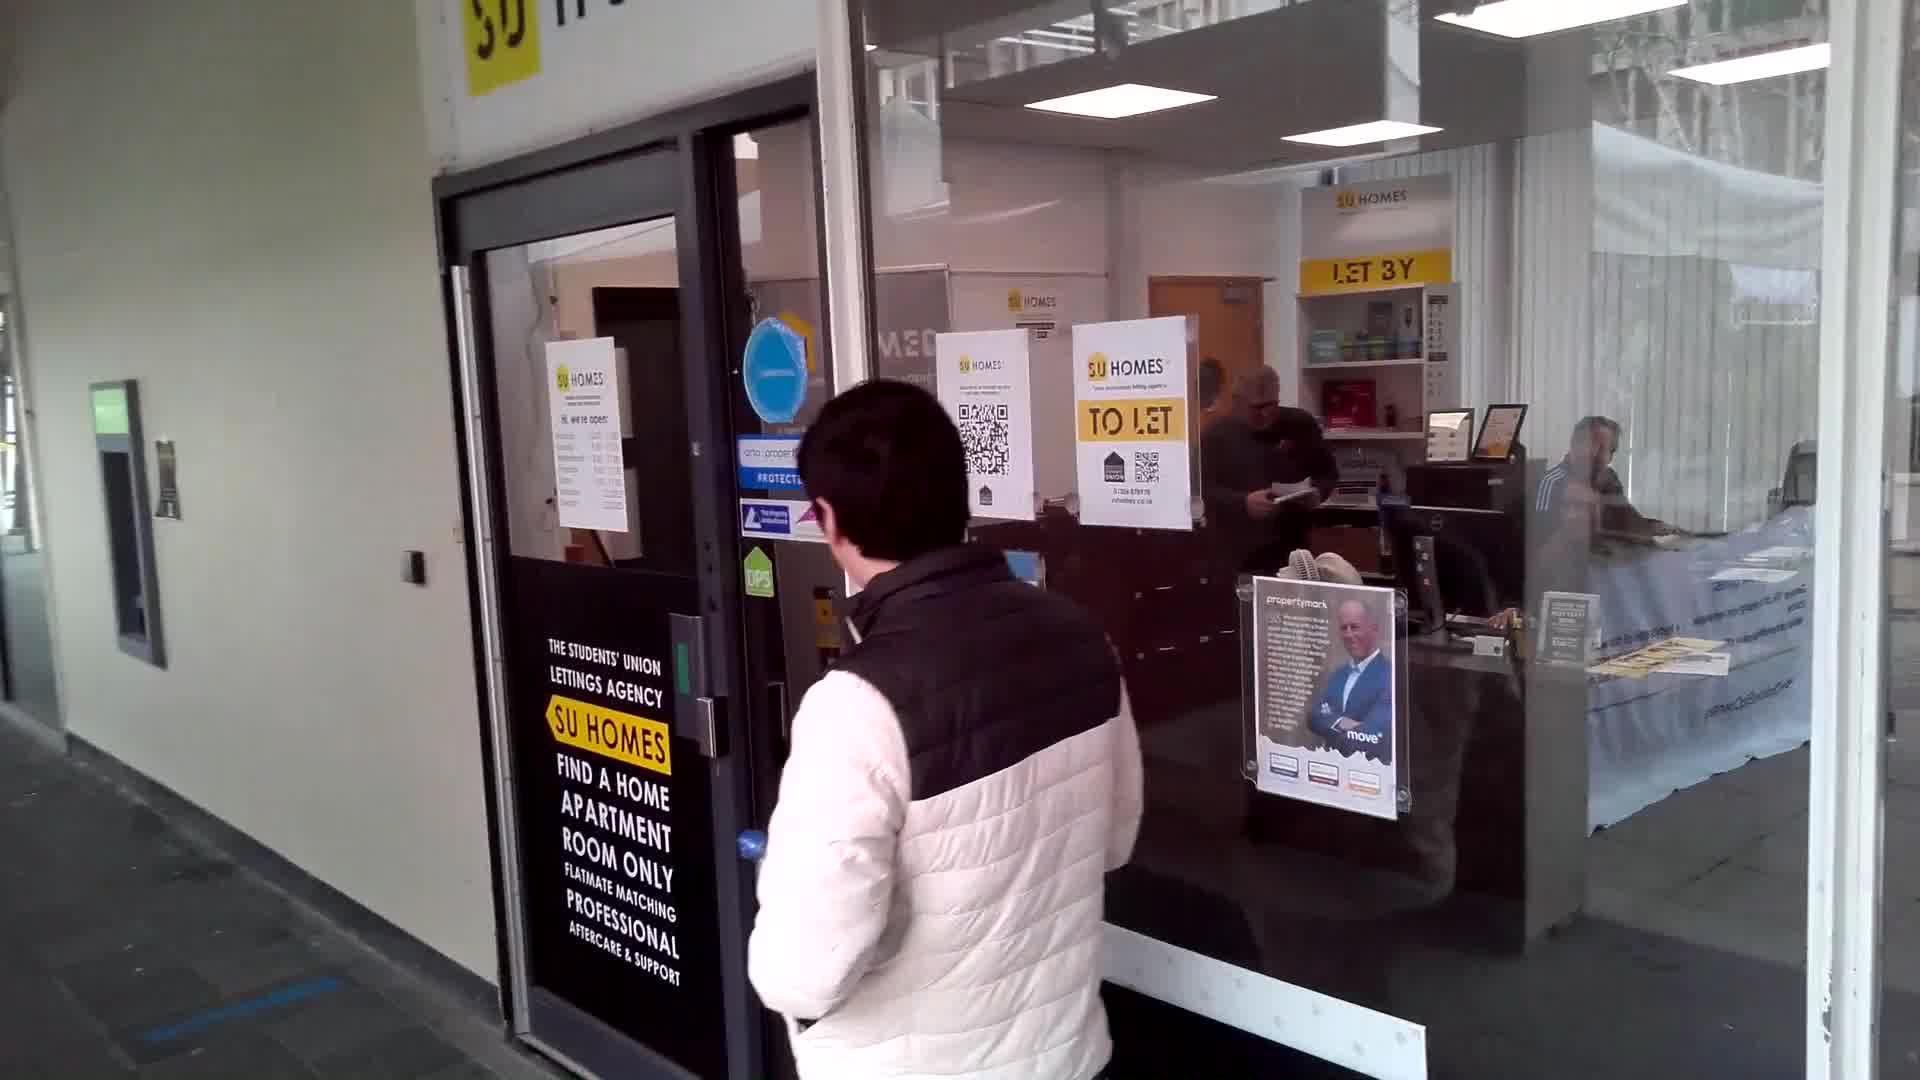Person: (780, 393, 1117, 1080), (1205, 362, 1334, 597)
